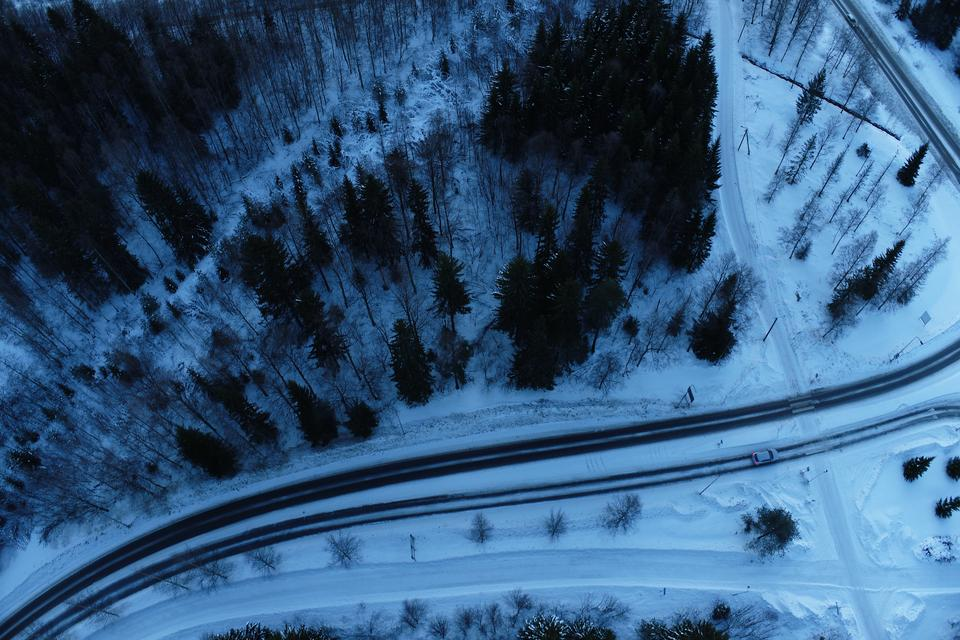intersection: (766, 377, 851, 468)
